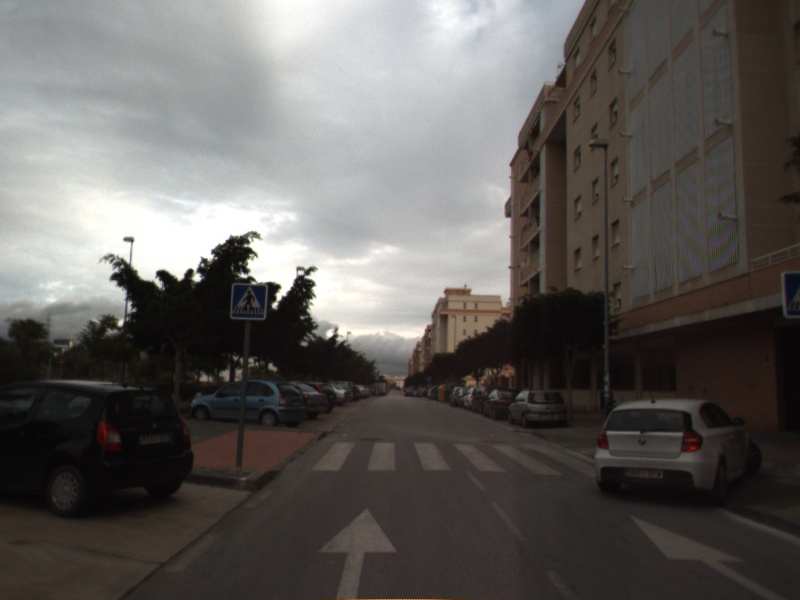STRAIGHT: (628, 514, 789, 600), (316, 505, 399, 600)
